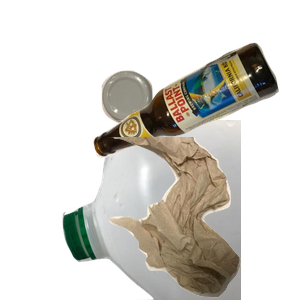glass: (91, 40, 300, 190)
metal: (99, 68, 244, 184)
plastic: (60, 120, 300, 300)
trash: (103, 137, 300, 300)
